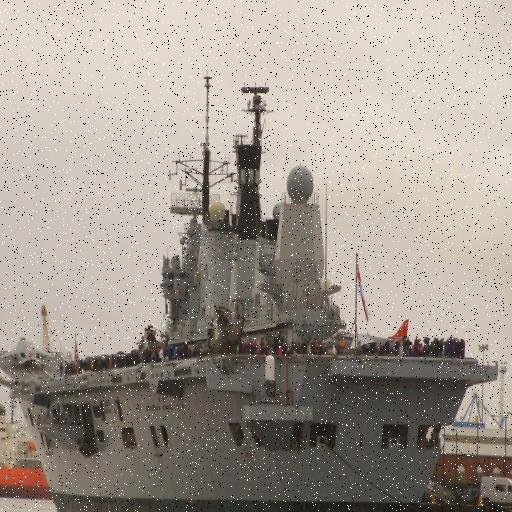Portanaves: (1, 51, 502, 512)
